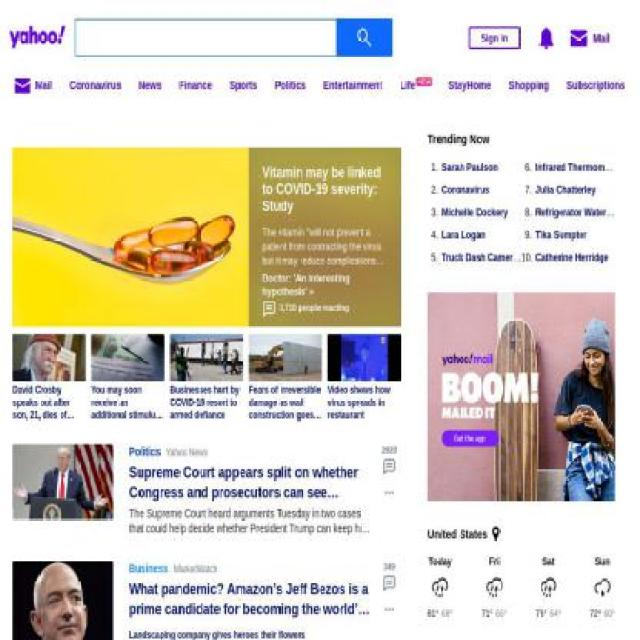button: (12, 147, 250, 327), (428, 555, 615, 619), (129, 462, 373, 502), (129, 579, 373, 619), (12, 334, 86, 421), (248, 334, 322, 421), (91, 334, 164, 421), (171, 334, 243, 421), (328, 334, 400, 421), (128, 628, 350, 640), (337, 18, 392, 57), (9, 17, 66, 48), (428, 250, 522, 264), (522, 206, 616, 220), (569, 22, 611, 53), (522, 161, 616, 174), (521, 250, 608, 264), (468, 26, 520, 49), (427, 206, 508, 220), (521, 183, 596, 197), (428, 526, 488, 542), (428, 161, 498, 174), (522, 228, 586, 242), (427, 183, 490, 197), (428, 228, 486, 242), (536, 23, 556, 54), (380, 444, 398, 474), (378, 602, 400, 620), (383, 560, 395, 592), (378, 486, 400, 502), (489, 526, 502, 542)
field: (75, 18, 336, 57)
